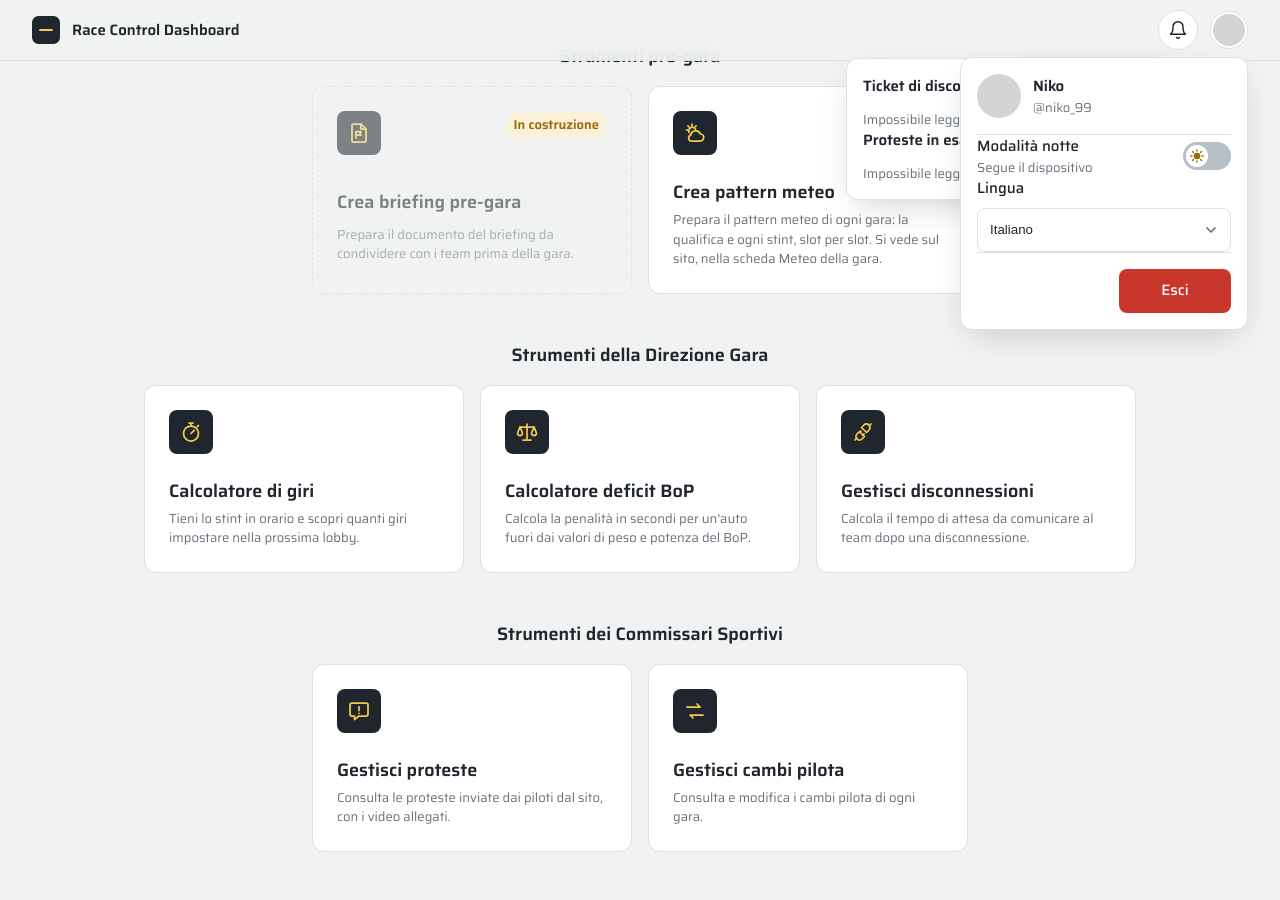
applicazione › chiudendo la conferma con "Torna indietro" resta dentro
(page scrolled)
Click the button "Esci" at [1175, 290], box [1119,268,1231,312]
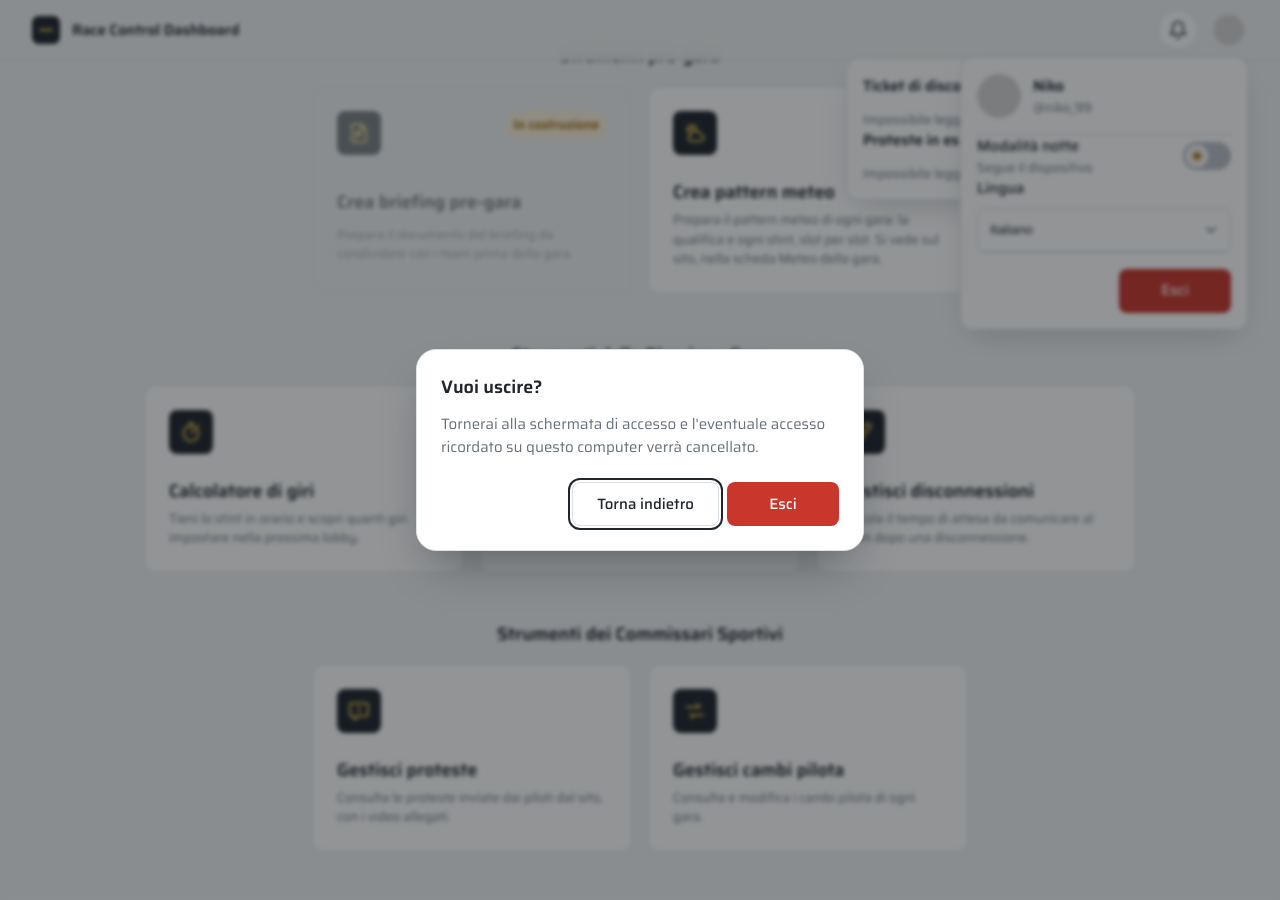
Click the button "Torna indietro" at [646, 504], box [572,482,719,526]
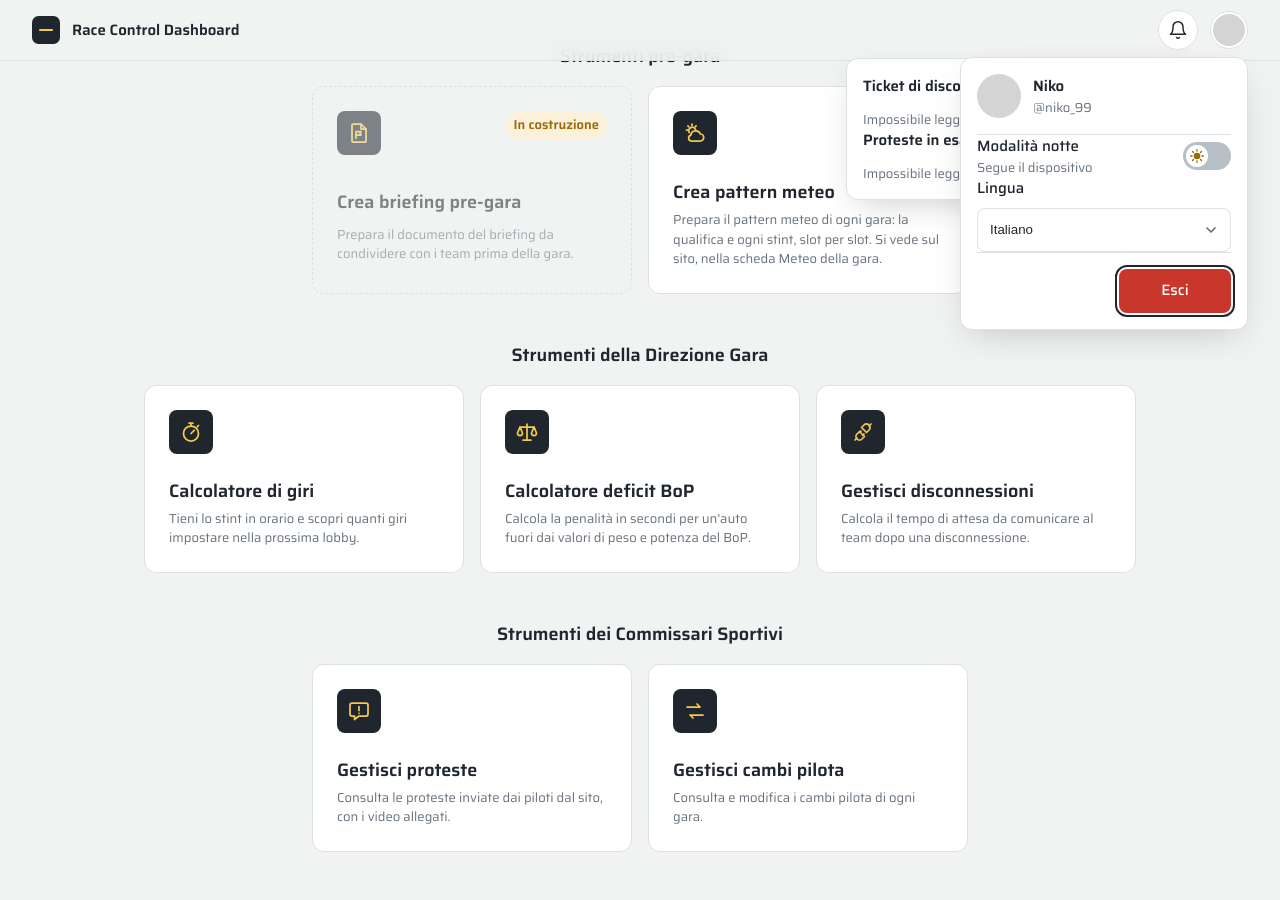
Check: the dialog is gone
